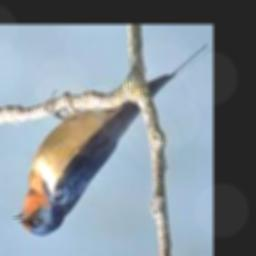Swallow: (13, 45, 210, 237)
